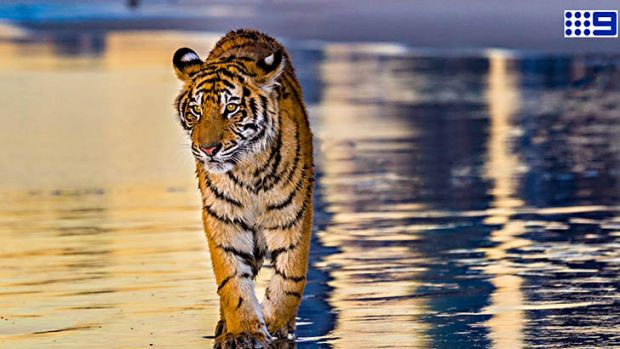Tiger: (169, 23, 320, 349)
